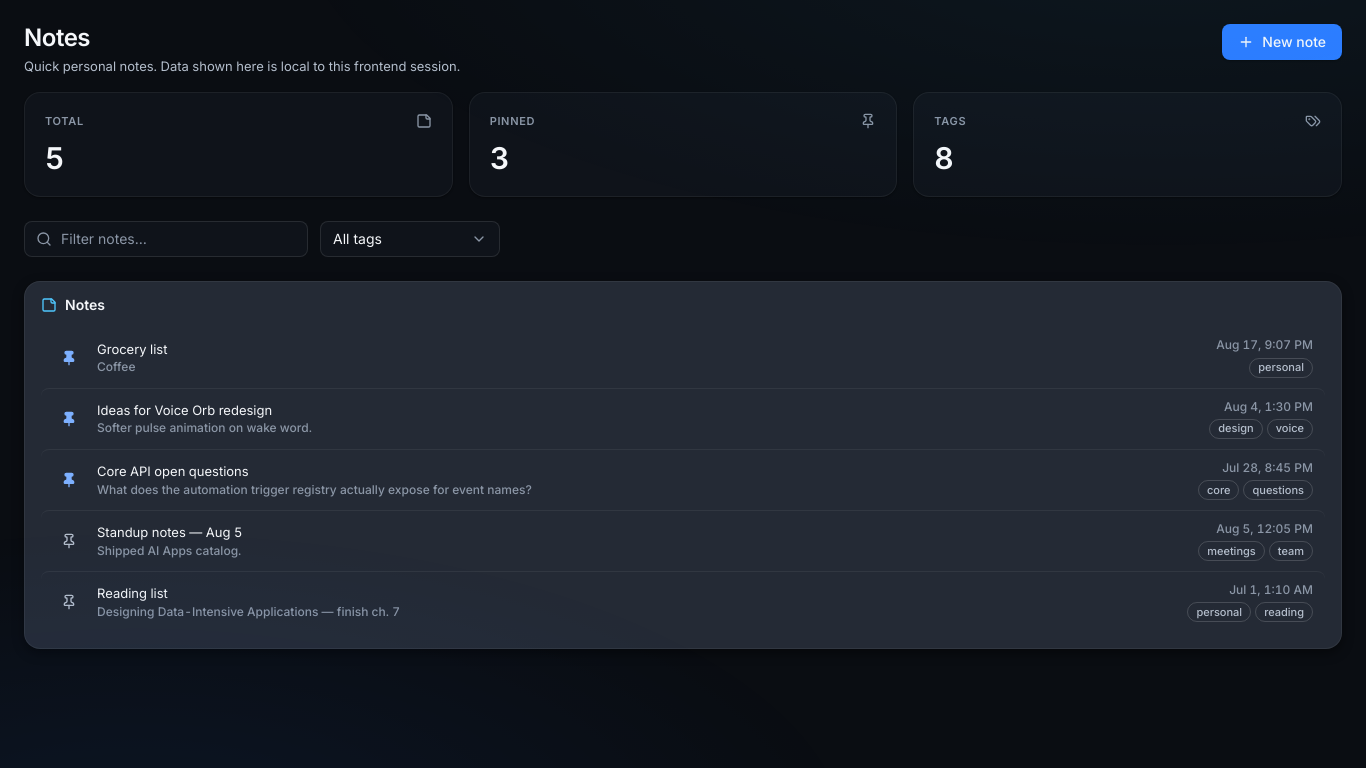
Test case: NotesPage › opens the detail drawer and unpins a pinned note from there
Click the button with test id "note-row-note-1" at (185, 410), box 41,388 -> 1325,449
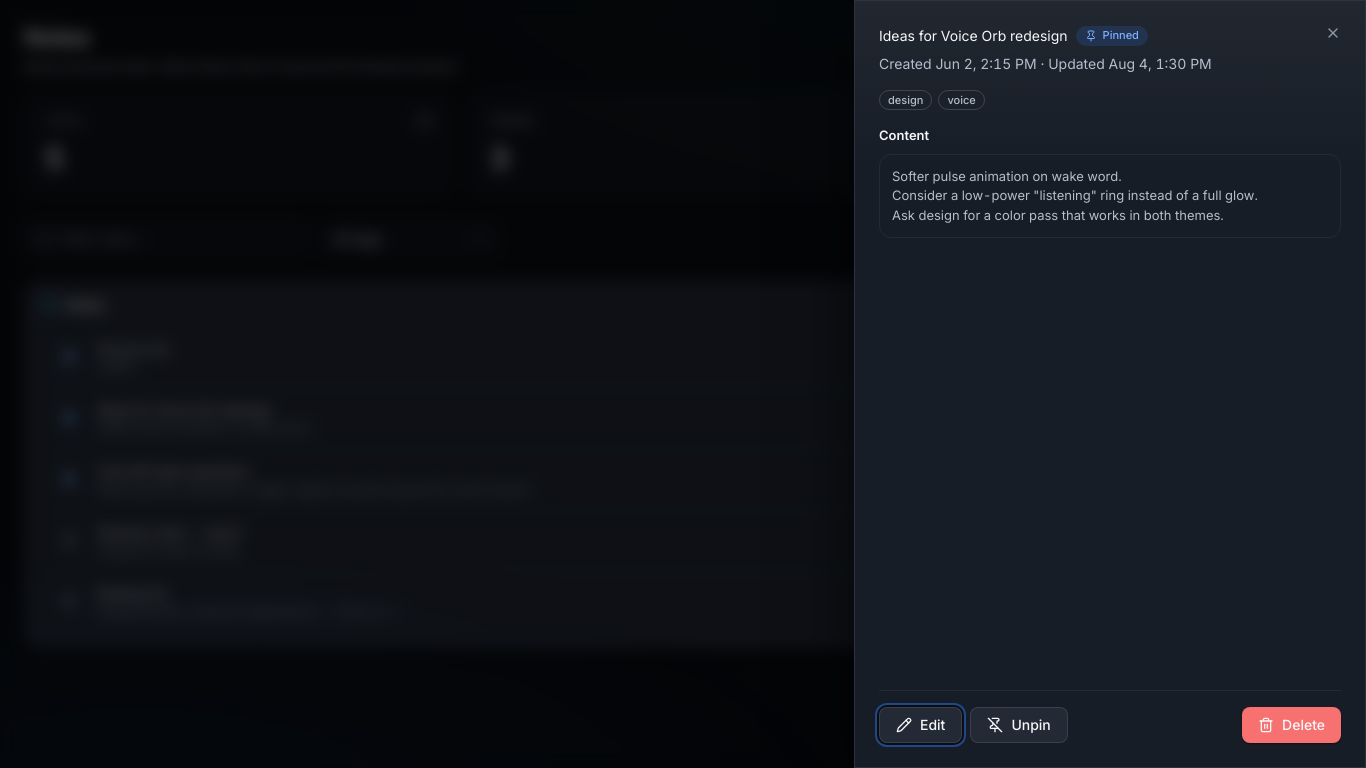
Check: the heading "Ideas for Voice Orb redesign" is shown, box 879,25 -> 1068,47
Check: the button with test id "note-pin-toggle" reads "Unpin"
Click the button with test id "note-pin-toggle" at (1019, 725), box 970,707 -> 1068,743
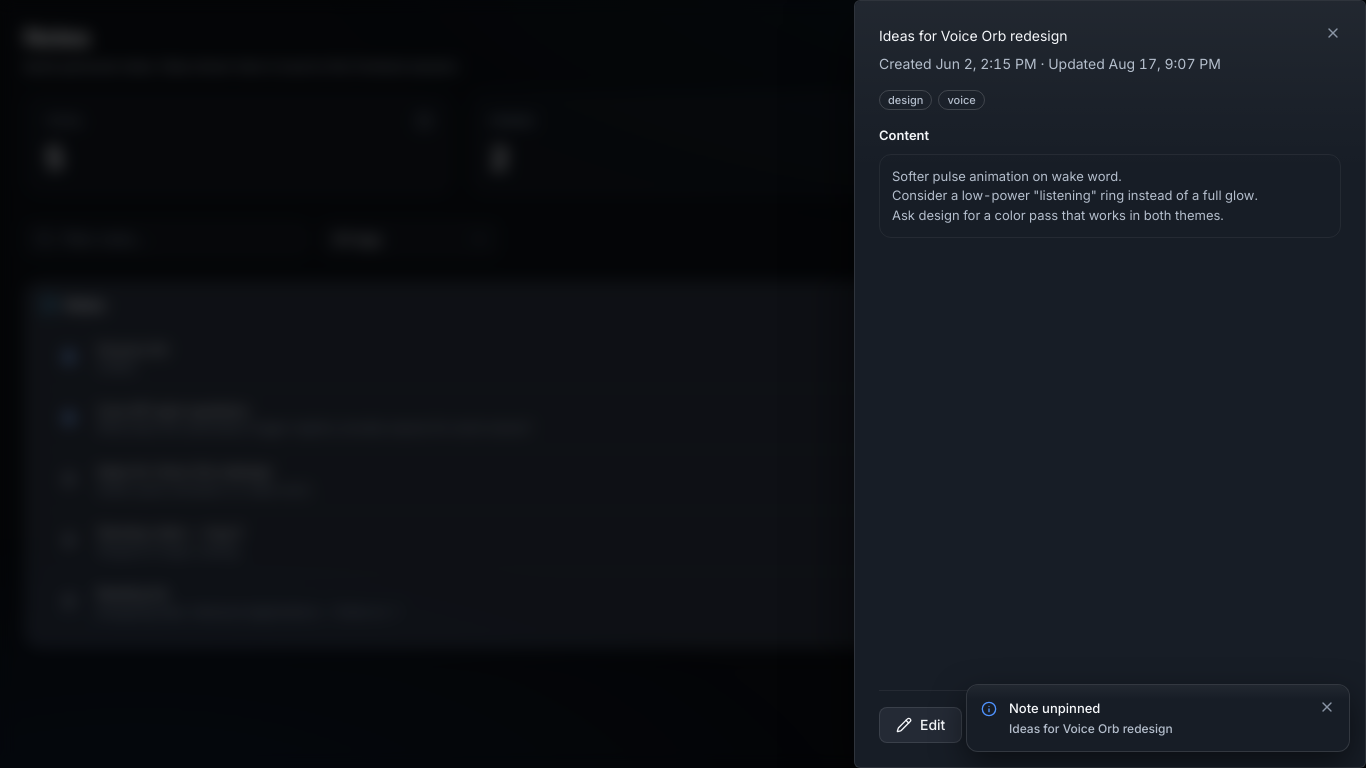
Check: the button with test id "note-pin-toggle" reads "Pin", box 970,707 -> 1049,743
